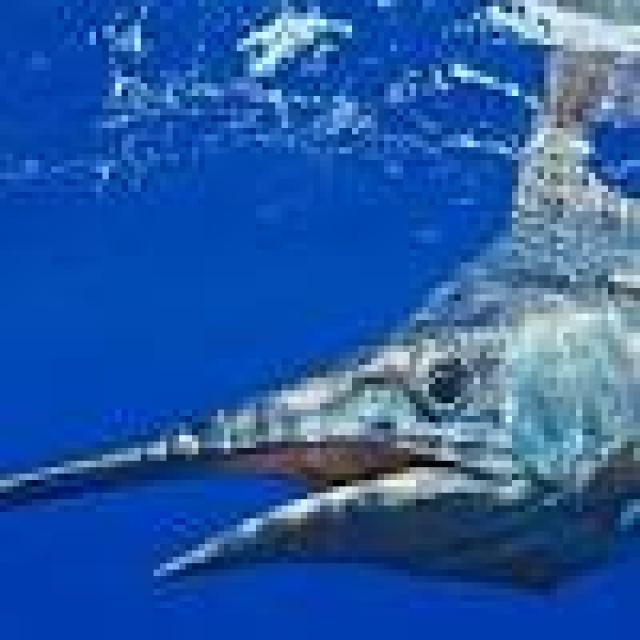Blue Marlin: (6, 109, 634, 595)
